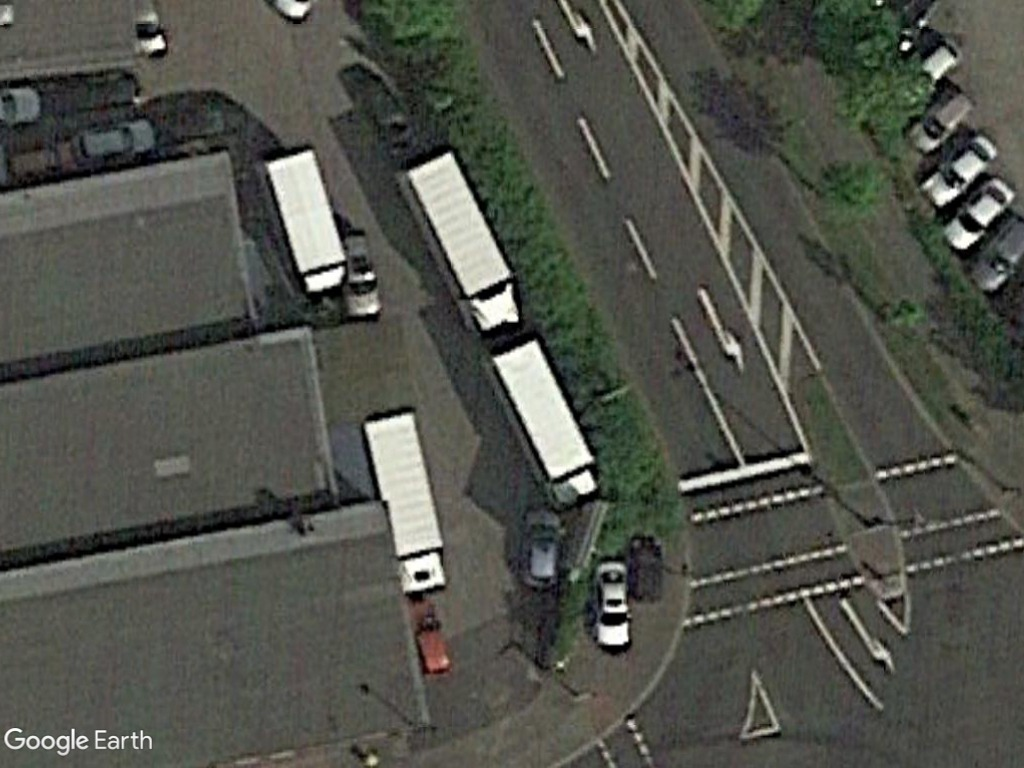car: (919, 131, 1001, 215), (938, 173, 1014, 252), (908, 82, 975, 155), (590, 555, 639, 654)
truck: (389, 145, 525, 334), (481, 335, 604, 510), (351, 403, 453, 599), (257, 140, 352, 300)
